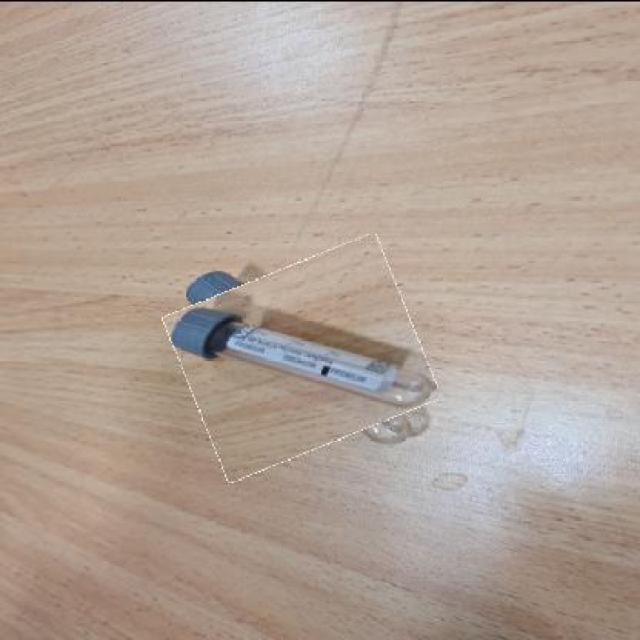Experimental-tube: (174, 248, 428, 462)
